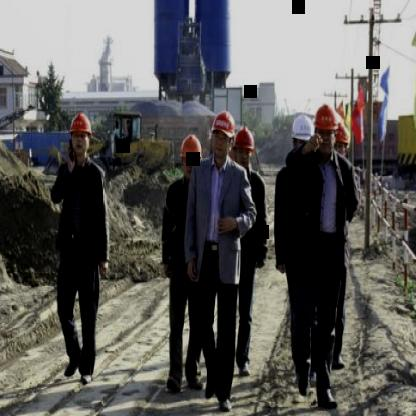helmet: (64, 108, 92, 164), (287, 111, 315, 165), (312, 100, 337, 158), (210, 106, 234, 164), (176, 132, 202, 182), (232, 124, 256, 174), (331, 122, 351, 164)
